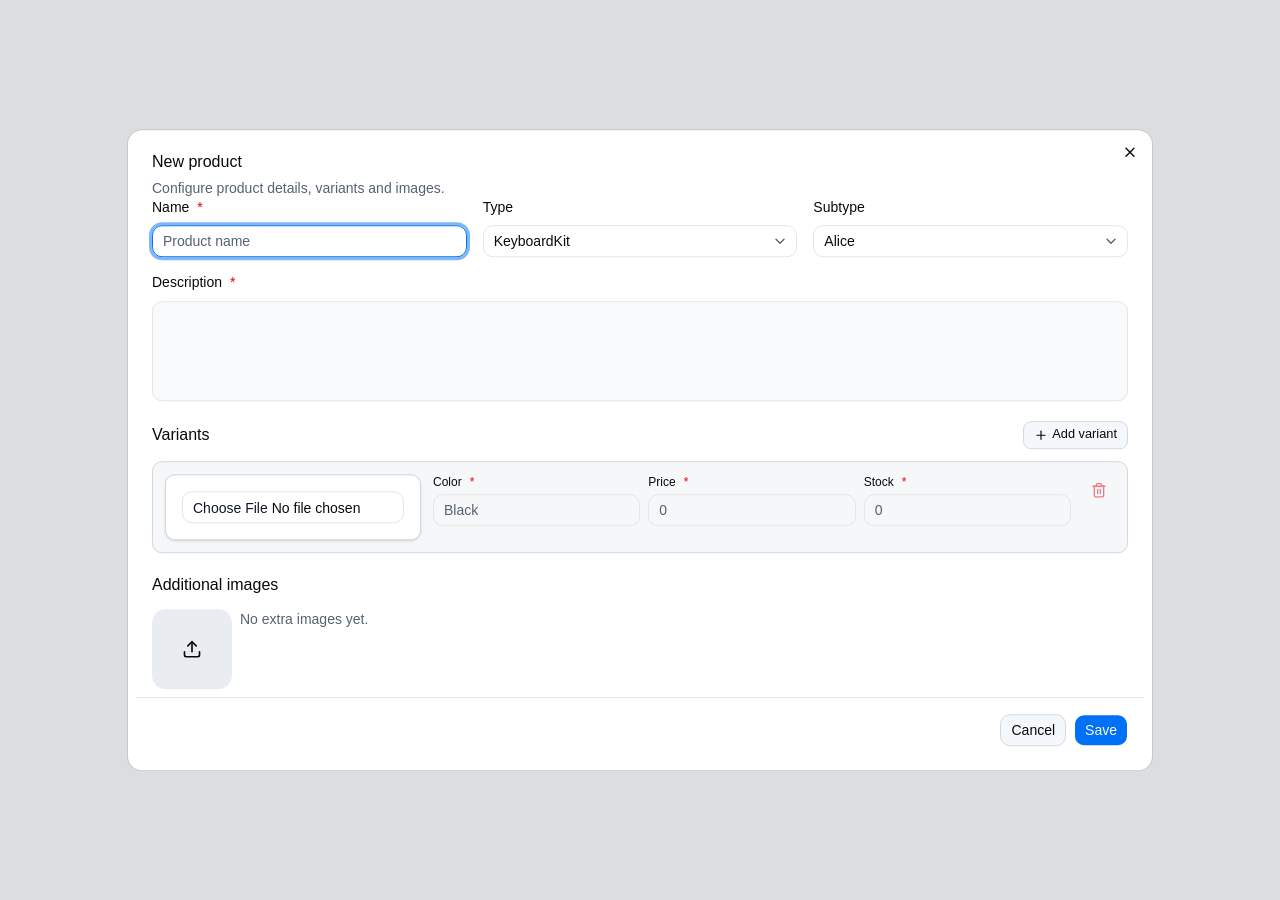
Test: ProductFormDialog › updates subtype options when product type changes to Prebuild
Expected: the dropdown labelled "Alice ▼" is shown, [813, 226, 1128, 258]
Click the dropdown labelled "KeyboardKit ▼": (532,242) [483, 226, 797, 258]
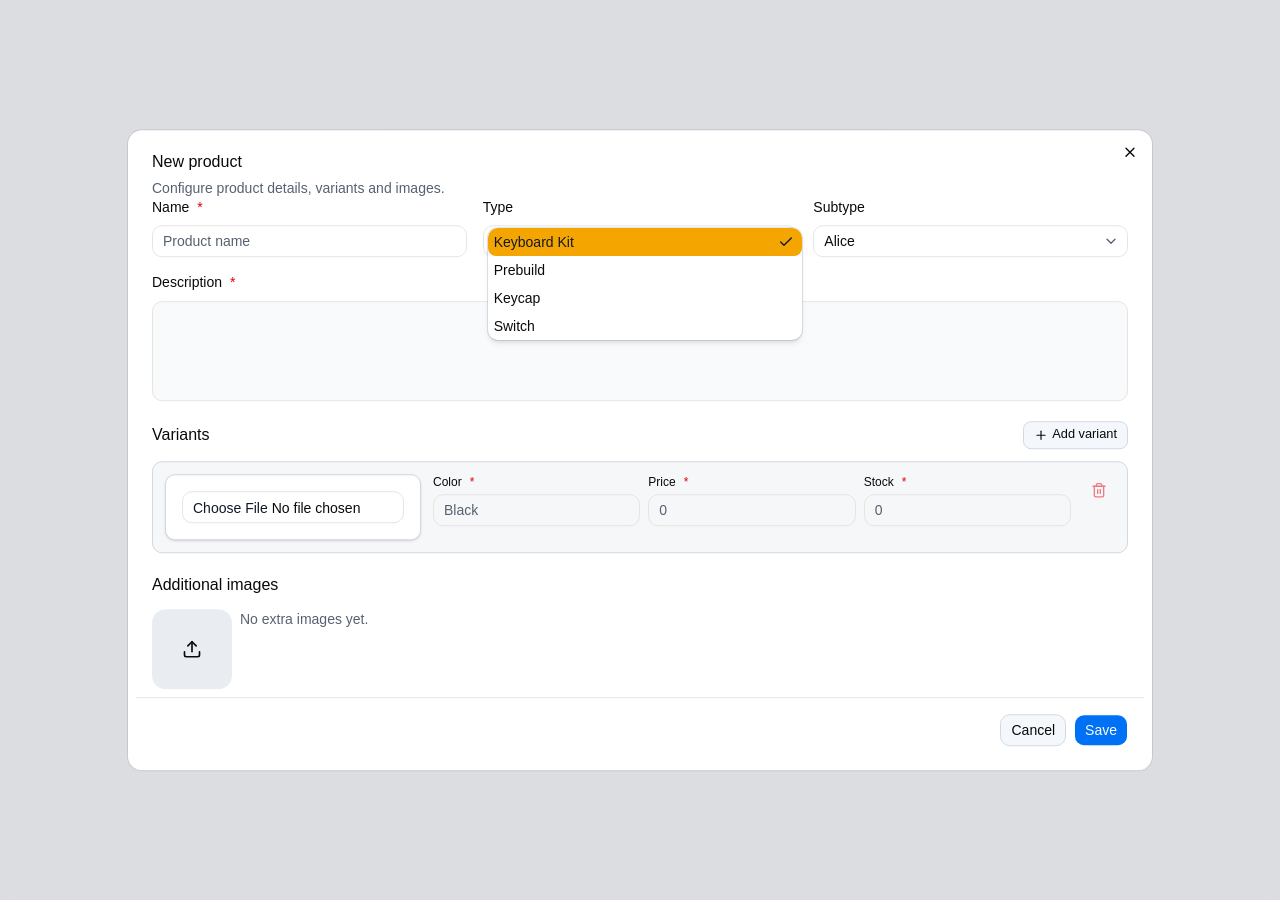
Click the option "Prebuild": (519,270) [494, 262, 545, 278]
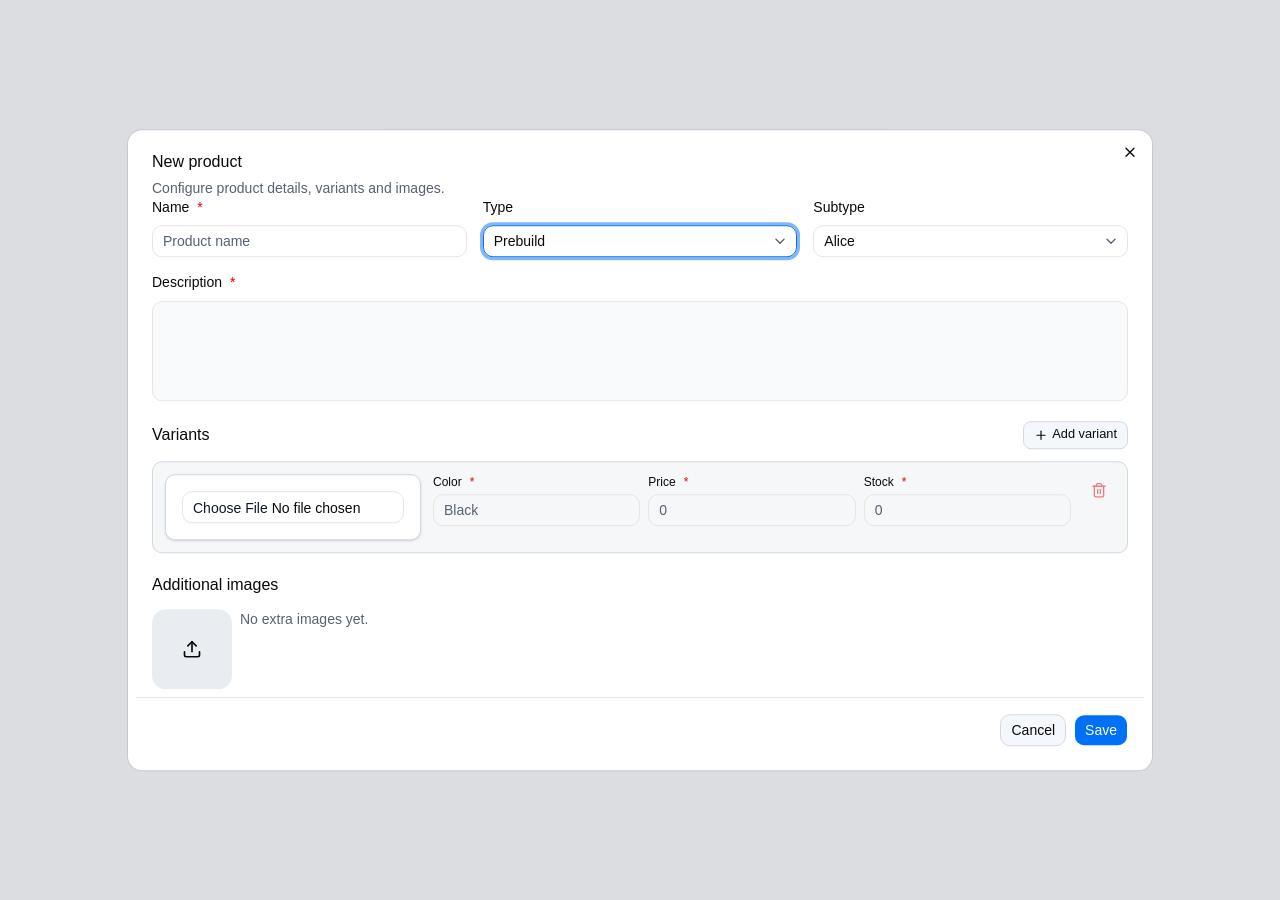
Now the dropdown labelled "Prebuild ▼" is shown, box [483, 226, 797, 258]
Click the dropdown labelled "Alice ▼": (840,242) [813, 226, 1128, 258]
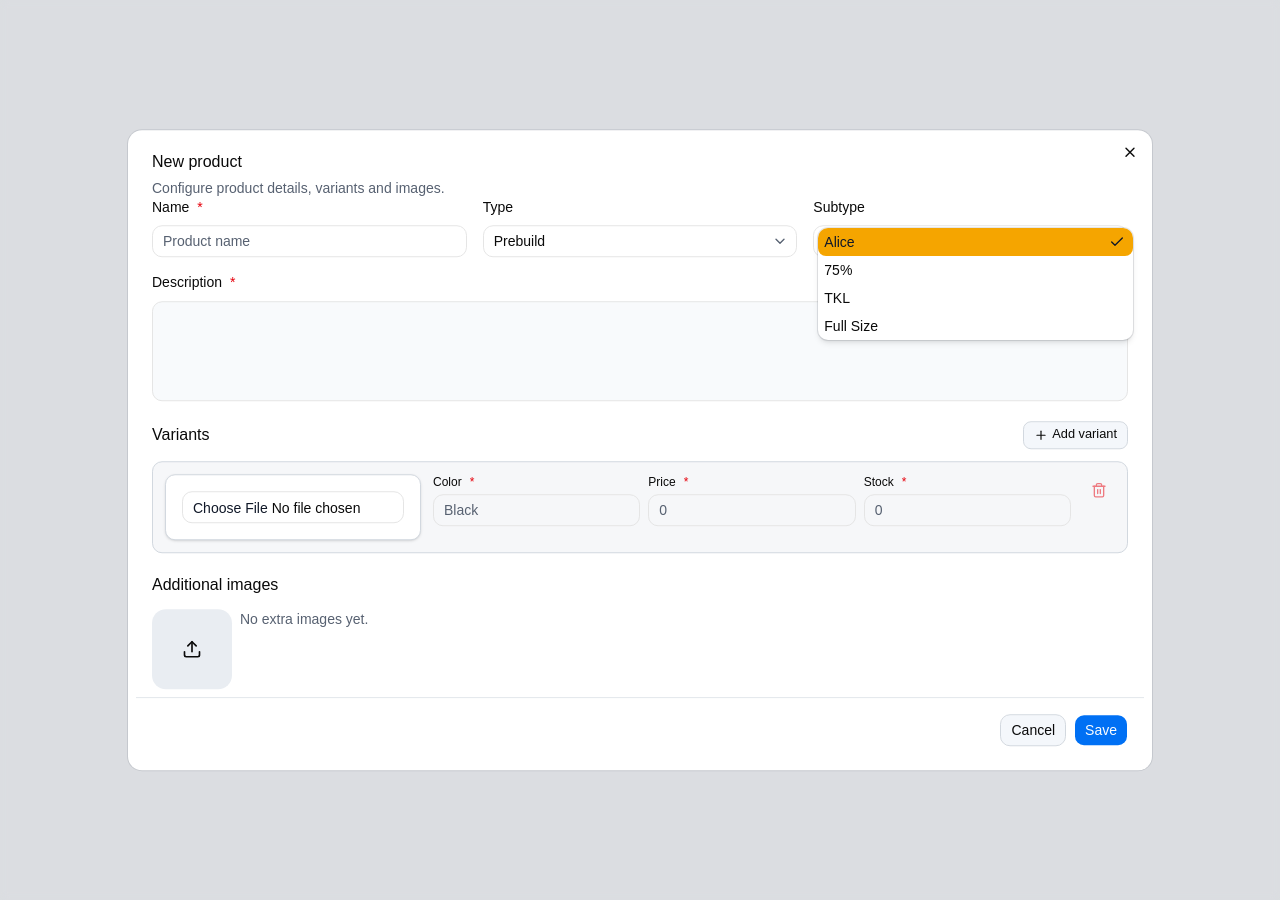
Now the option "Alice" is shown, box [818, 228, 1133, 256]
Now the option "75%" is shown
Now the option "TKL" is shown, box [824, 290, 850, 306]
Click the option "75%": (838,270) [824, 262, 852, 278]
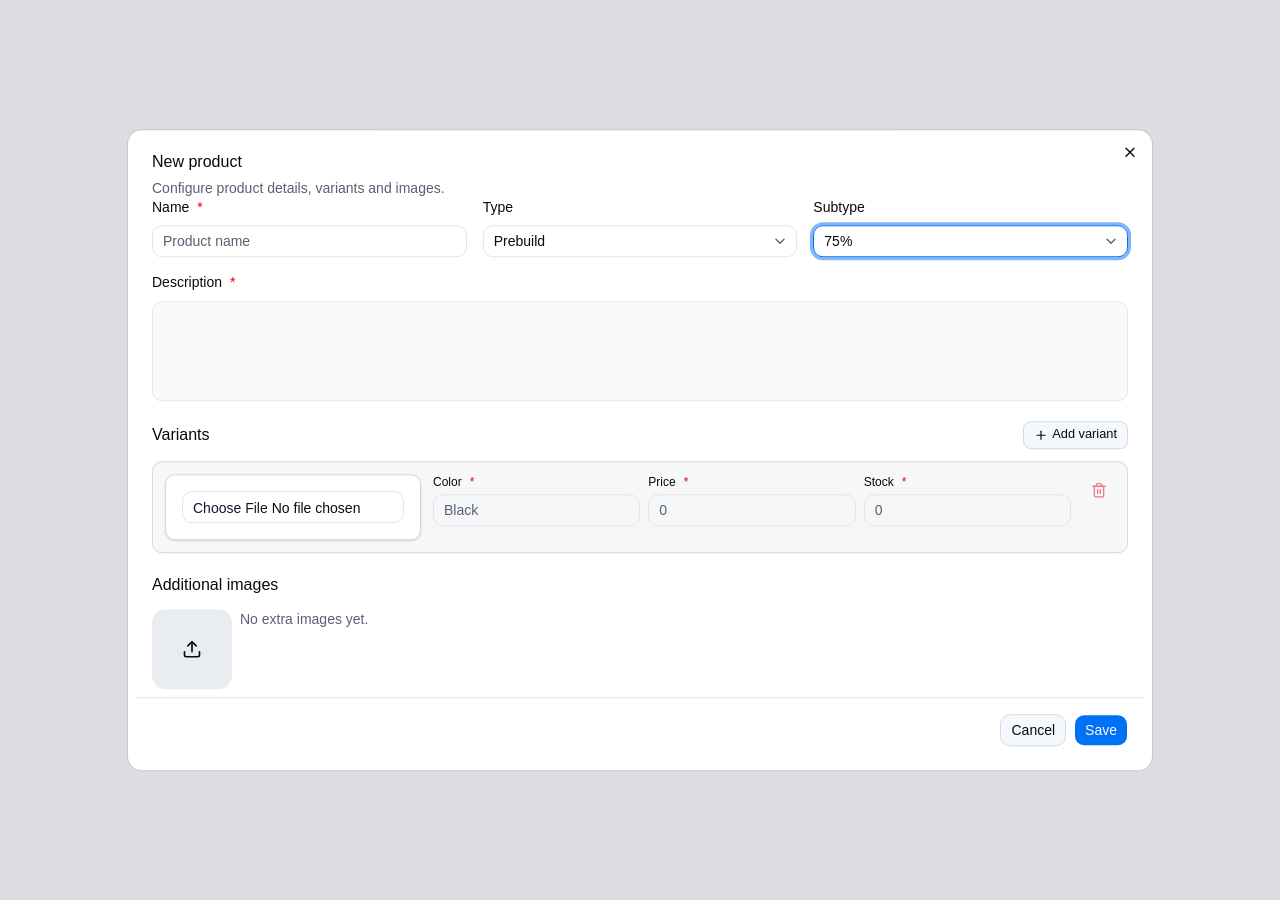
Now the dropdown labelled "75% ▼" is shown, box [813, 226, 1128, 258]
